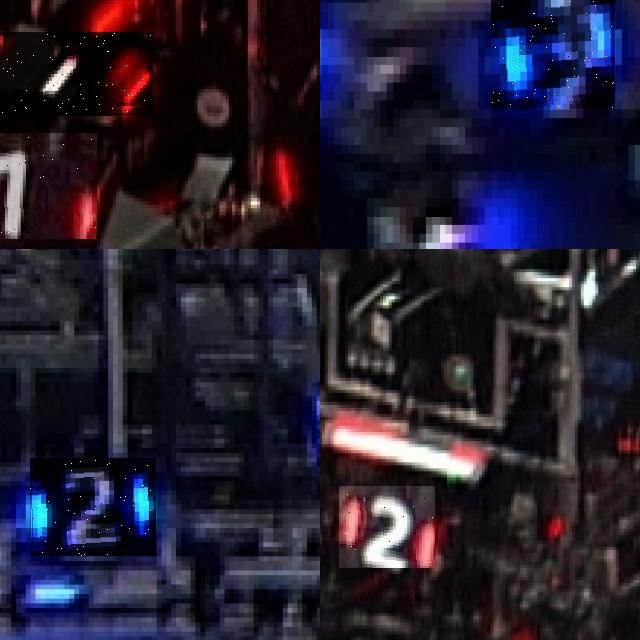B2: (30, 458, 156, 556)
B3: (491, 0, 615, 109)
R1: (0, 31, 153, 116), (0, 133, 97, 238)
R2: (340, 486, 436, 568)
